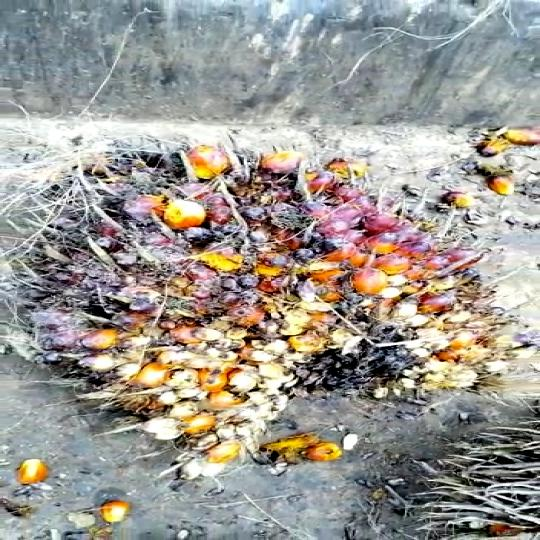masak: (13, 135, 532, 477)
